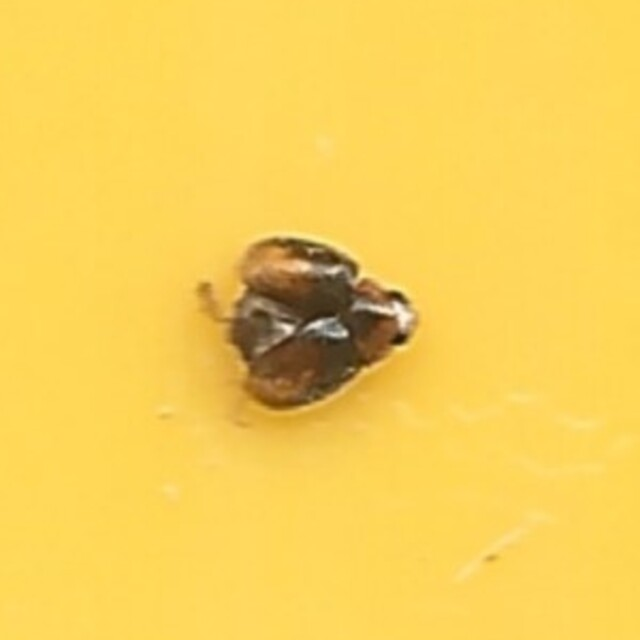Coleoptera: (213, 232, 427, 408)
